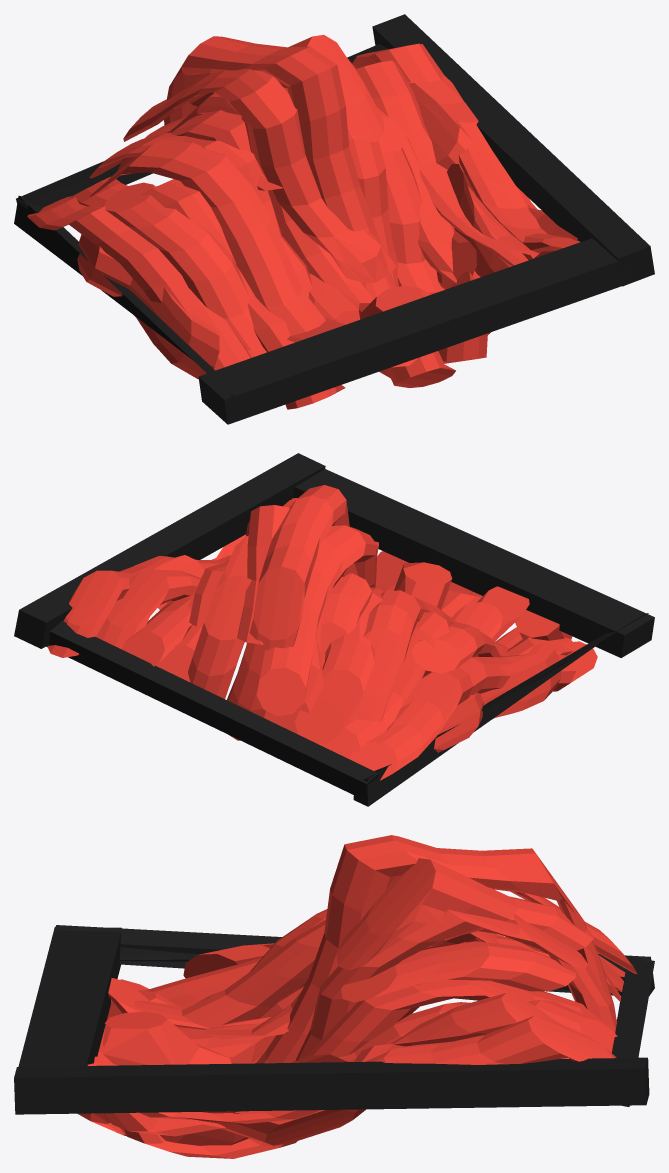
The picture shows the model from 3 angles, top to bottom: view 1: azimuth 30°, elevation 25°; view 2: azimuth 150°, elevation 25°; view 3: azimuth 270°, elevation 25°; orthographic projection. The views are drawn at different scales.
Visible parts, largest first — view 1: mesh_73236159, group_828347181, group_621159814, mesh_1369544107, group_621676822, group_1408549182, group_867302720, group_1965368793, group_731887542, group_816385130, group_2138188689, group_107713218 (+14 smaller); view 2: mesh_73236159, mesh_1239068883, mesh_1369544107, group_828347181, group_1965368793, group_621159814, group_1204409709, group_621676822, group_2098235170, group_107713218, group_2138188689, group_731887542 (+12 smaller); view 3: mesh_1369544107, group_828347181, mesh_73236159, group_935508790, group_2098235170, group_867302720, group_1951778362, group_621676822, group_653335478, group_731887542, group_342755287, mesh_243432761 (+12 smaller).
Boxes of the visible parts, x1=… form: mesh_73236159: x1=198, y1=238, x2=633, y2=424; group_828347181: x1=164, y1=36, x2=487, y2=363; group_621159814: x1=123, y1=68, x2=396, y2=282; mesh_1369544107: x1=372, y1=14, x2=654, y2=286; group_621676822: x1=90, y1=139, x2=345, y2=342; group_1408549182: x1=105, y1=182, x2=266, y2=357; group_867302720: x1=352, y1=43, x2=580, y2=253; group_1965368793: x1=27, y1=195, x2=251, y2=370; group_731887542: x1=356, y1=60, x2=554, y2=265; group_816385130: x1=117, y1=87, x2=455, y2=387; group_2138188689: x1=77, y1=234, x2=219, y2=379; group_107713218: x1=70, y1=176, x2=345, y2=409; mesh_73236159: x1=293, y1=469, x2=654, y2=657; mesh_1239068883: x1=46, y1=621, x2=378, y2=796; mesh_1369544107: x1=14, y1=453, x2=325, y2=648; group_828347181: x1=227, y1=485, x2=349, y2=740; group_1965368793: x1=349, y1=641, x2=597, y2=780; group_621159814: x1=256, y1=525, x2=377, y2=716; group_1204409709: x1=295, y1=586, x2=529, y2=744; group_621676822: x1=349, y1=590, x2=502, y2=722; group_2098235170: x1=188, y1=535, x2=408, y2=698; group_107713218: x1=319, y1=610, x2=572, y2=758; group_2138188689: x1=434, y1=643, x2=561, y2=752; group_731887542: x1=96, y1=498, x2=297, y2=648; mesh_1369544107: x1=14, y1=1057, x2=649, y2=1114; group_828347181: x1=77, y1=835, x2=616, y2=1136; mesh_73236159: x1=18, y1=926, x2=122, y2=1066; group_935508790: x1=336, y1=858, x2=593, y2=970; group_2098235170: x1=97, y1=909, x2=617, y2=1062; group_867302720: x1=106, y1=1015, x2=616, y2=1123; group_1951778362: x1=341, y1=941, x2=576, y2=1002; group_621676822: x1=134, y1=919, x2=325, y2=1029; group_653335478: x1=94, y1=979, x2=615, y2=1122; group_731887542: x1=87, y1=993, x2=569, y2=1136; group_342755287: x1=120, y1=1000, x2=617, y2=1158; mesh_243432761: x1=55, y1=925, x2=654, y2=996.
Size of the model in its own units: 65.26 by 35.48 by 71.37.
